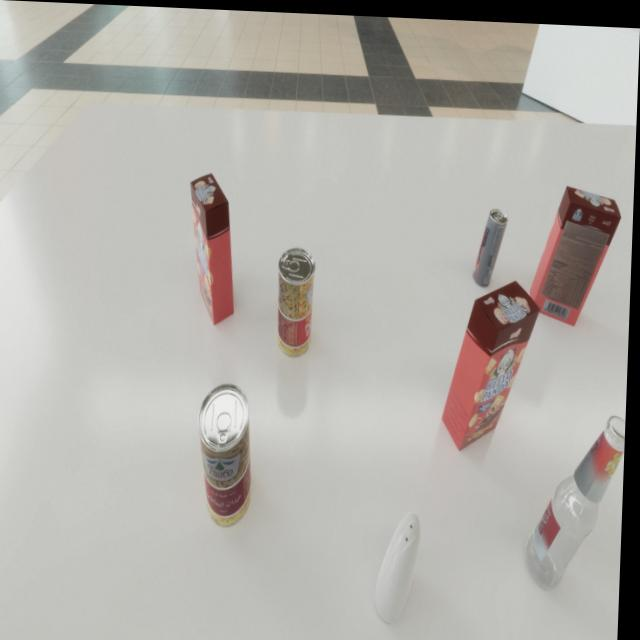Bottle: (528, 406, 629, 586)
HelloPanda: (444, 273, 543, 449), (531, 179, 624, 322), (188, 170, 240, 324)
Potato_sticks: (198, 380, 258, 526), (277, 244, 318, 355)
Rita_zero_sugar: (475, 203, 510, 284)
Salt: (379, 507, 425, 620)
